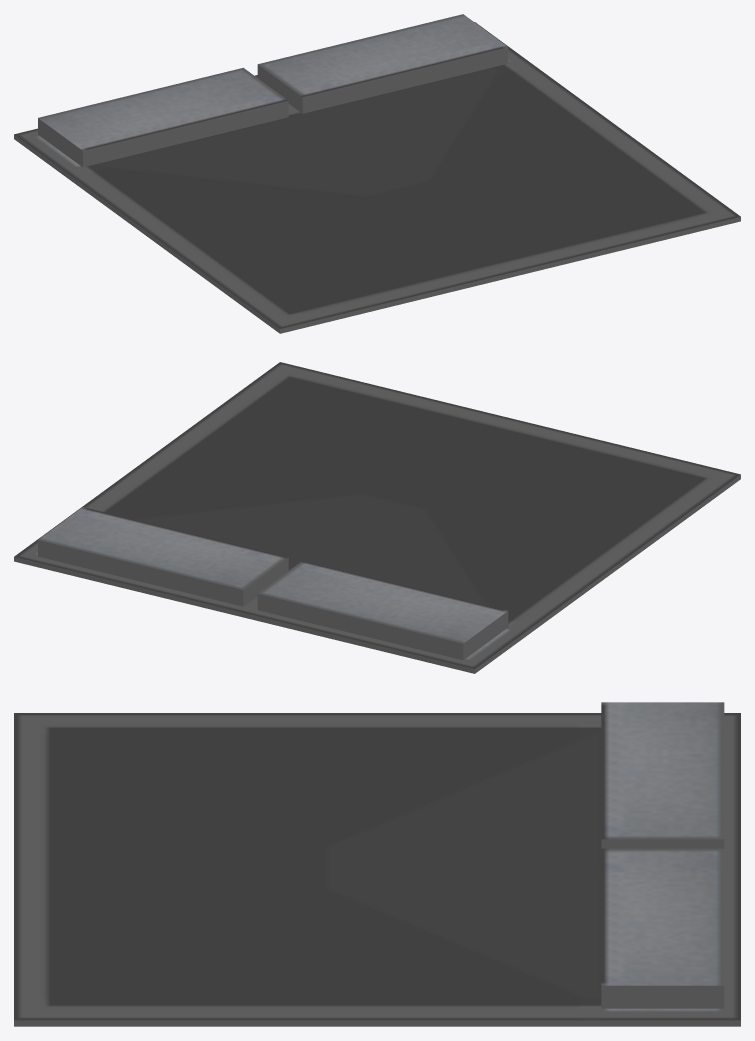
Rendered from Building_DoubleSleepingSpot.glb.
The picture shows the model from 3 angles, top to bottom: view 1: azimuth 30°, elevation 25°; view 2: azimuth 150°, elevation 25°; view 3: azimuth 270°, elevation 25°; orthographic projection. The views are drawn at different scales.
Visible parts, largest first — view 1: DoubleSleepingSpot; view 2: DoubleSleepingSpot; view 3: DoubleSleepingSpot.
Part boxes in pixels (bbox=[...]): DoubleSleepingSpot: bbox=[14, 14, 740, 333]; DoubleSleepingSpot: bbox=[14, 362, 740, 673]; DoubleSleepingSpot: bbox=[14, 702, 740, 1026].
Bounding box in the file's own units: 2.03 × 0.09 × 2.03.
Materials: 1 (1 with a texture image).
